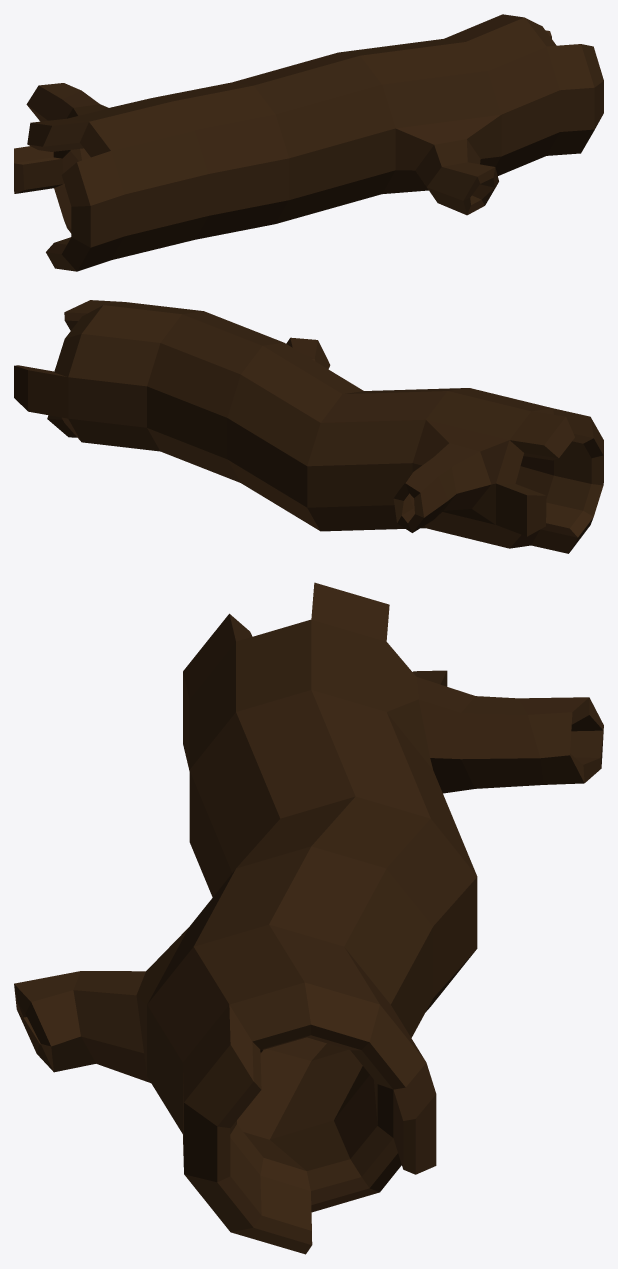
The model's file is Log.FBX.
3 views of the same model, one above another, from view 1: azimuth 30°, elevation 25°; view 2: azimuth 150°, elevation 25°; view 3: azimuth 270°, elevation 25° (orthographic). The views are drawn at different scales.
Parts seen in each view (by area): view 1: Log; view 2: Log; view 3: Log.
Part boxes in pixels (box(x1,y1,x2,y2)): Log: box(14, 14, 603, 271); Log: box(14, 300, 603, 553); Log: box(14, 582, 603, 1254).
Bounding box in the file's own units: 148 × 41.23 × 82.41.
